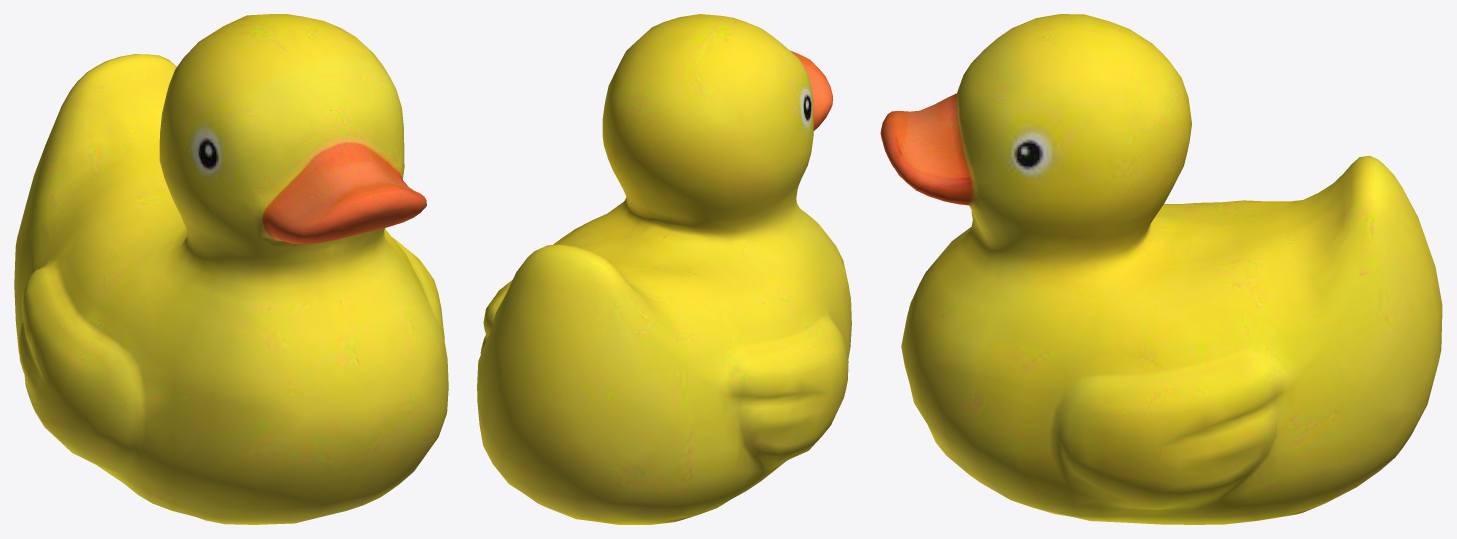
3 renders of one model, left to right at view 1: azimuth 30°, elevation 25°; view 2: azimuth 150°, elevation 25°; view 3: azimuth 270°, elevation 25°, orthographic. The views are drawn at different scales.
Bounding box in the file's own units: 1.41 × 1.69 × 1.91.
1 material, 1 textured.
